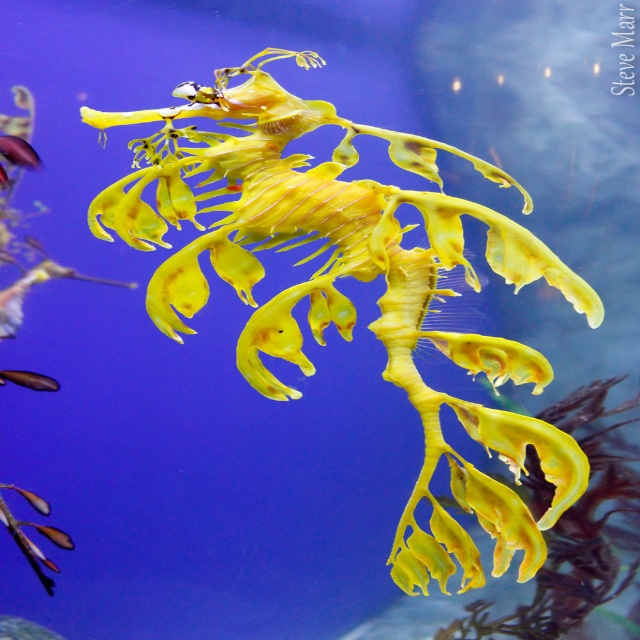Seahorse: (80, 47, 605, 596)
